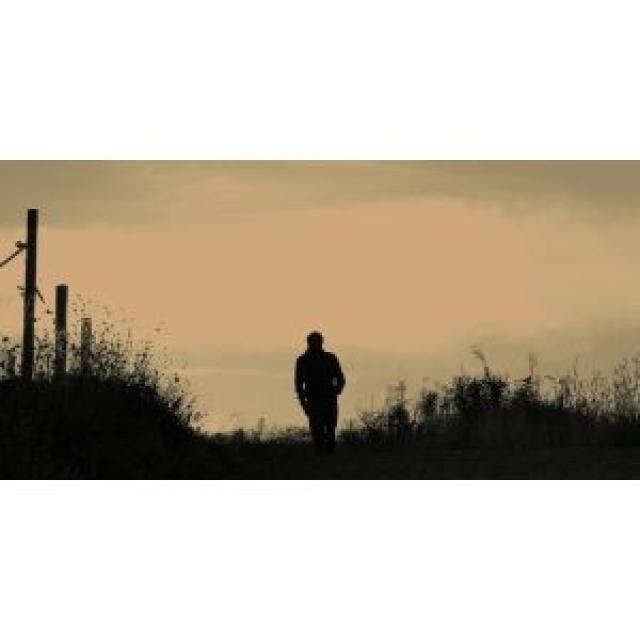nonfall: (281, 325, 368, 453)
